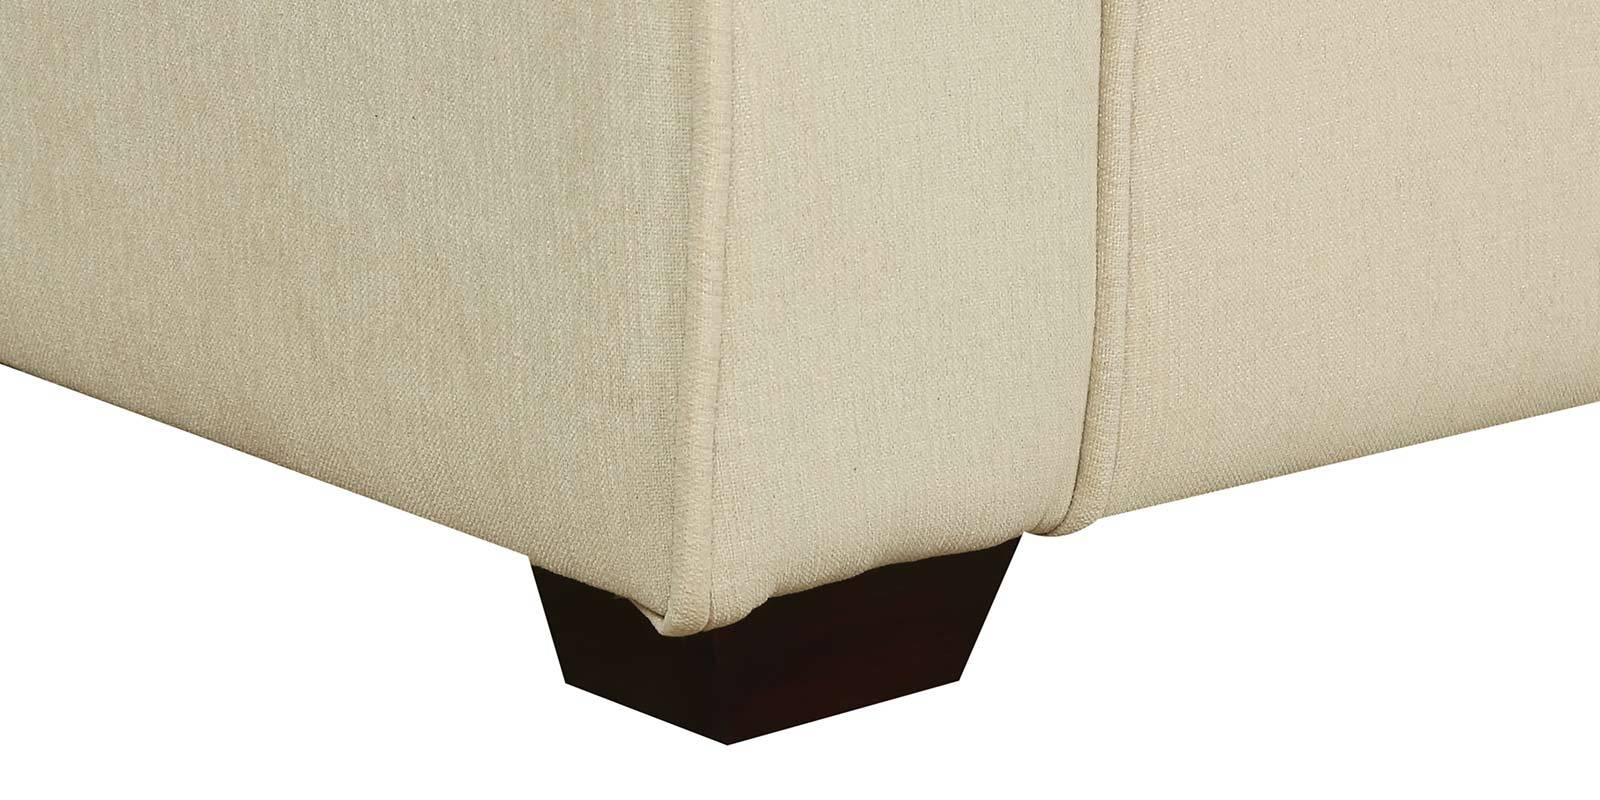Hugo Three Seater Sofa in Beige Colour by CasaCraft: (6, 5, 1600, 731)
